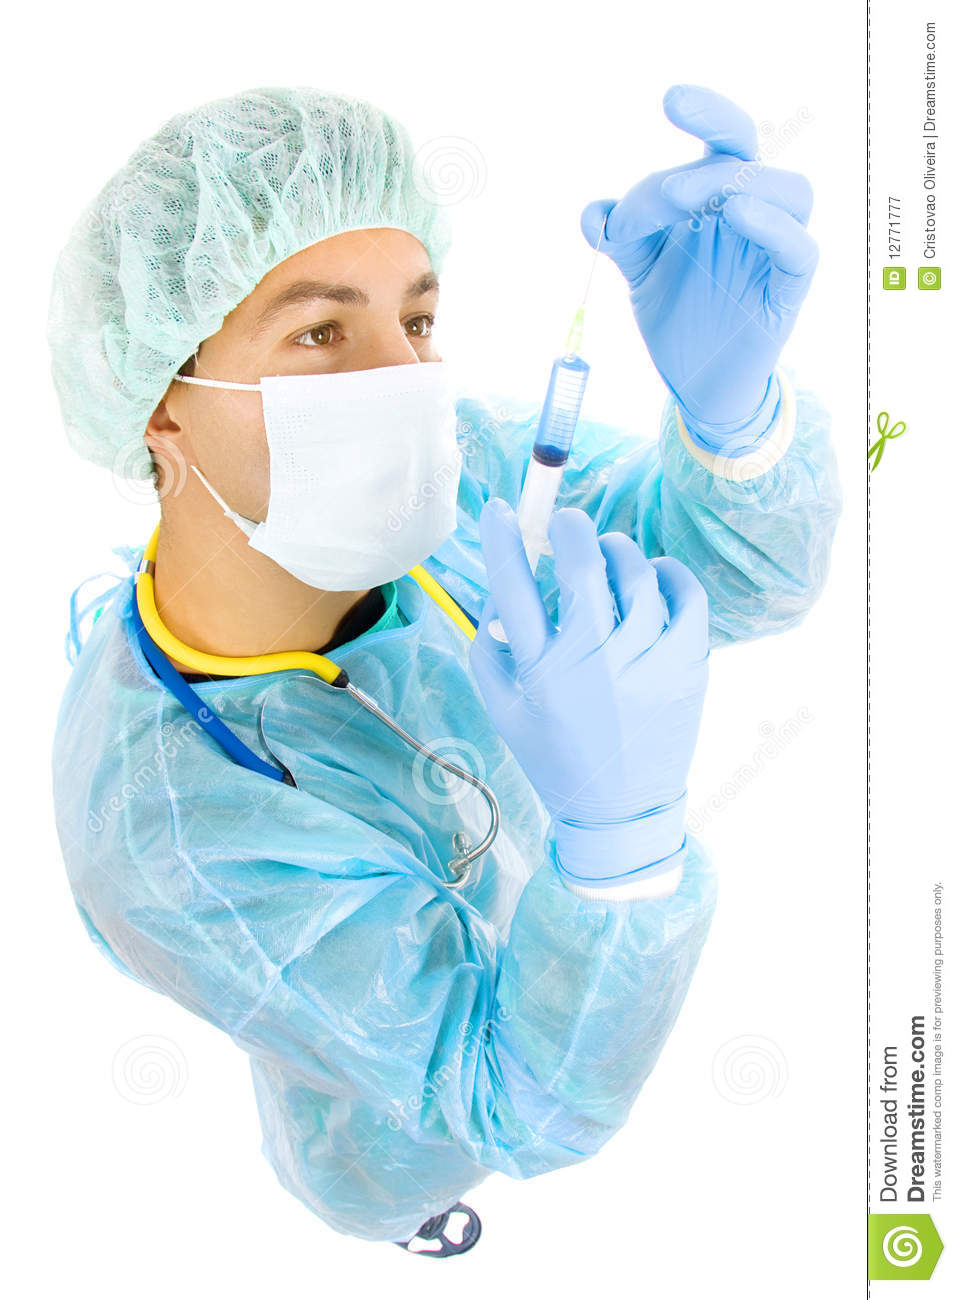mask: (254, 381, 494, 623)
